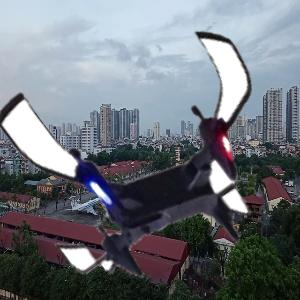drone: (13, 14, 290, 291)
